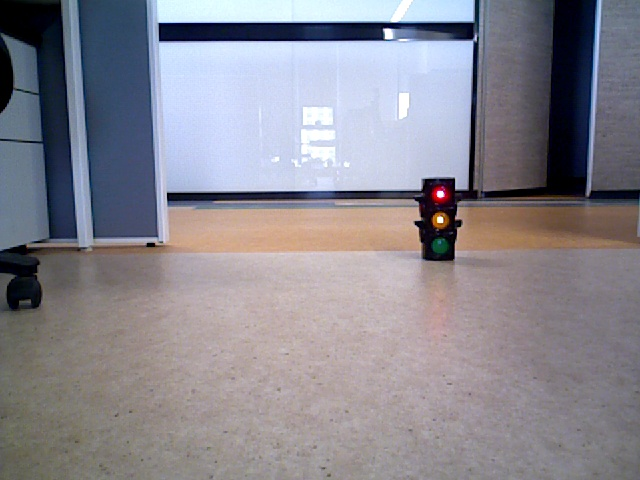red: (424, 181, 452, 258)
